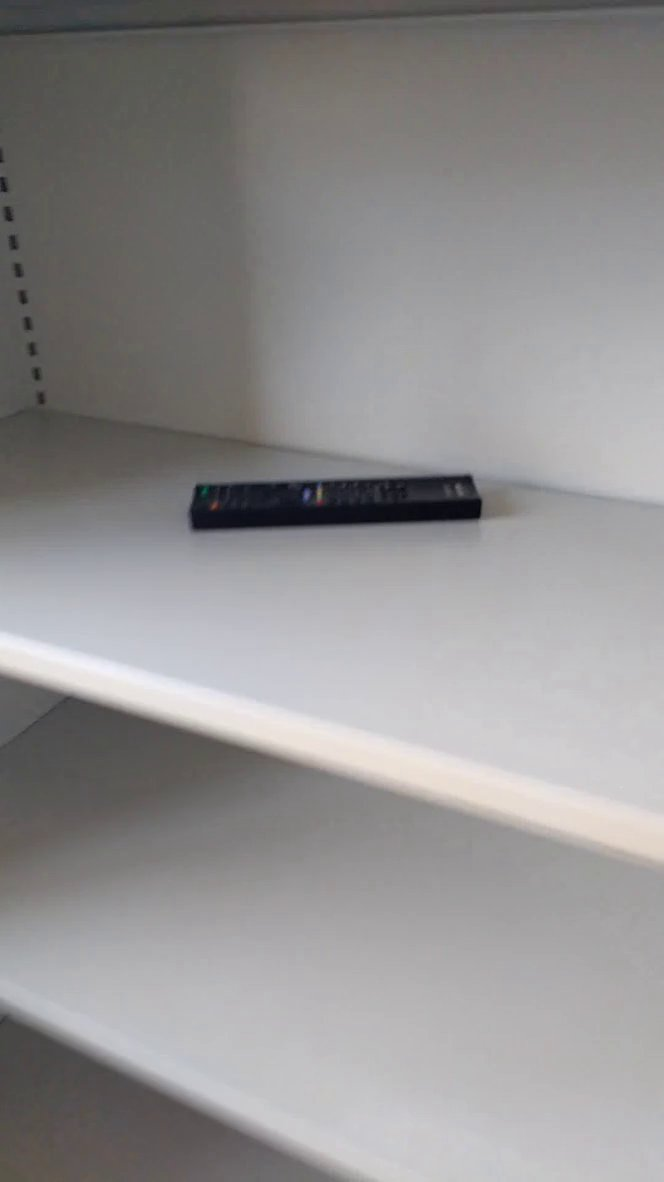remote: (179, 452, 492, 564)
